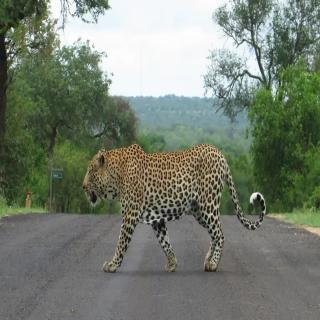Leopard: (82, 139, 265, 273)
